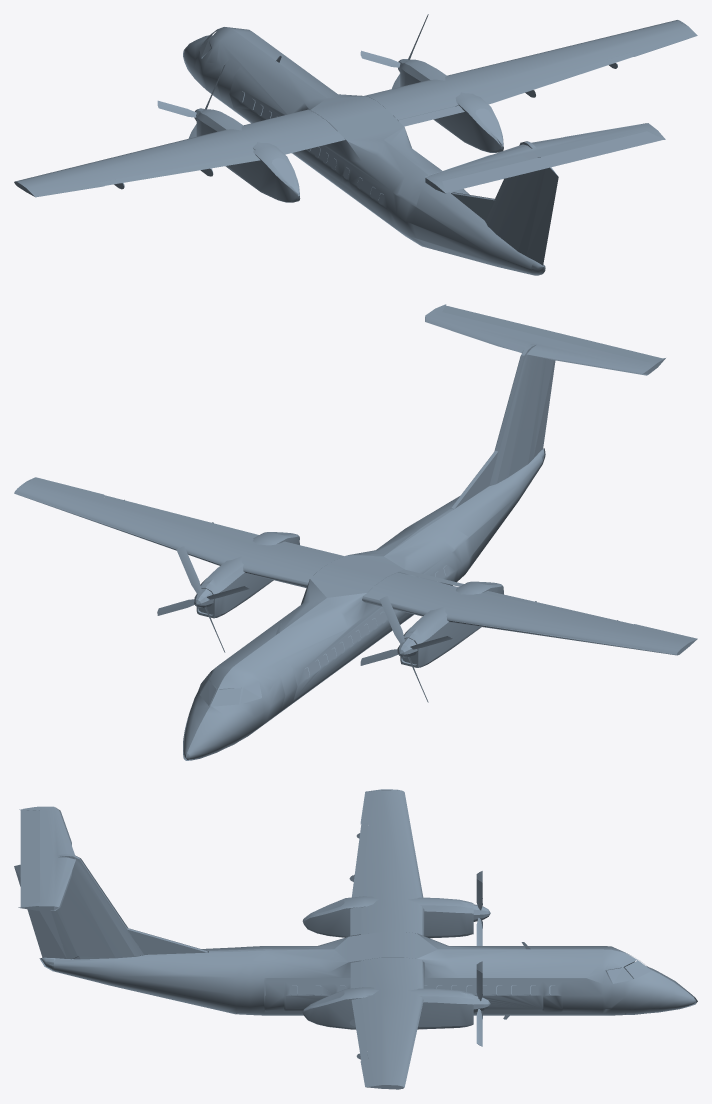
Rendered from DHC8-300.glb.
3 views of the same model, one above another, from view 1: azimuth 30°, elevation 25°; view 2: azimuth 150°, elevation 25°; view 3: azimuth 270°, elevation 25° (orthographic). The views are drawn at different scales.
Size of the model in its own units: 25.9 by 6.71 by 25.32.
